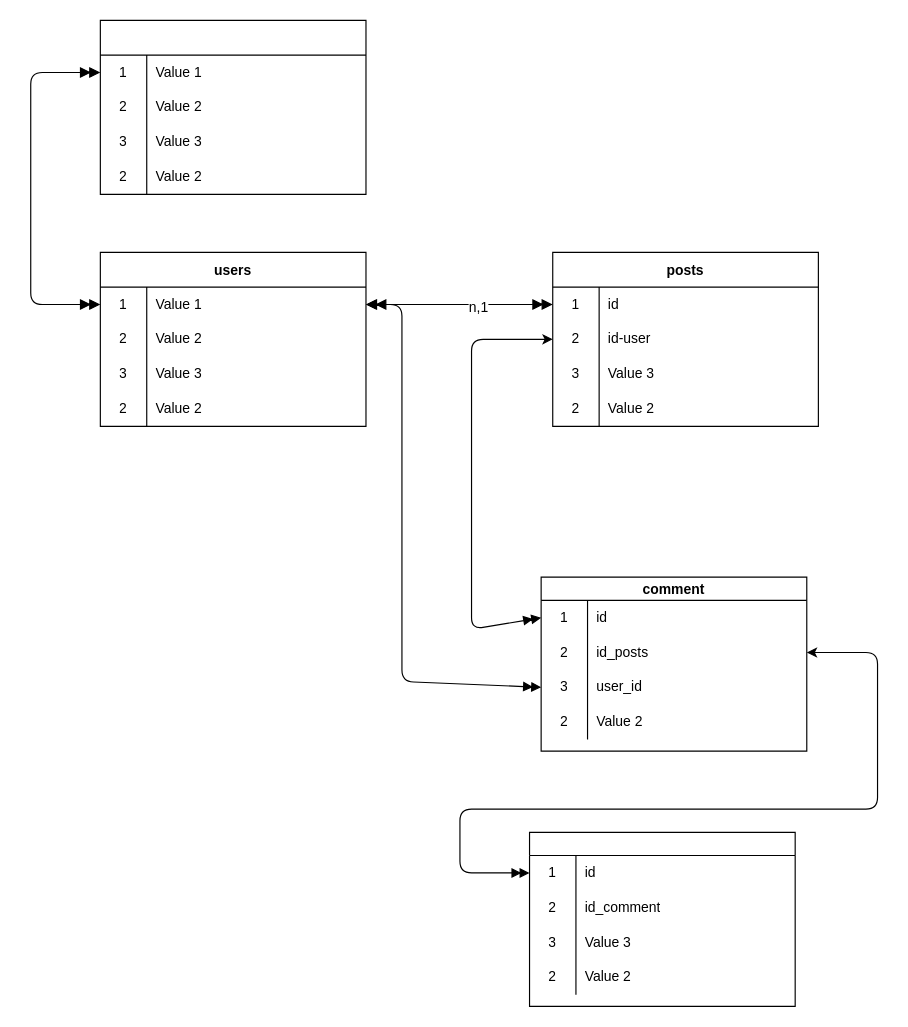
Image size: 908x1027. Some labels were removed from this diagram. Each missing label, with the box of its shape:
commandes: (99, 19, 366, 194)
sub_comment: (528, 831, 795, 1006)
